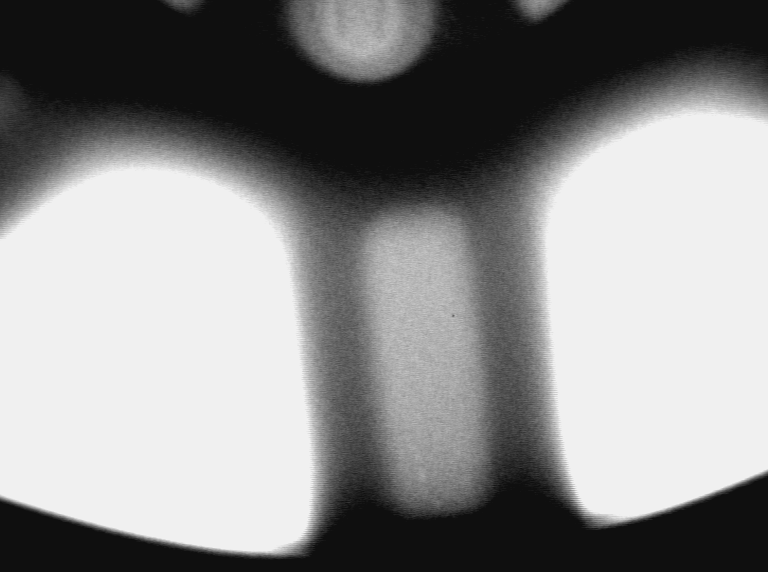defect: (427, 493, 446, 515)
